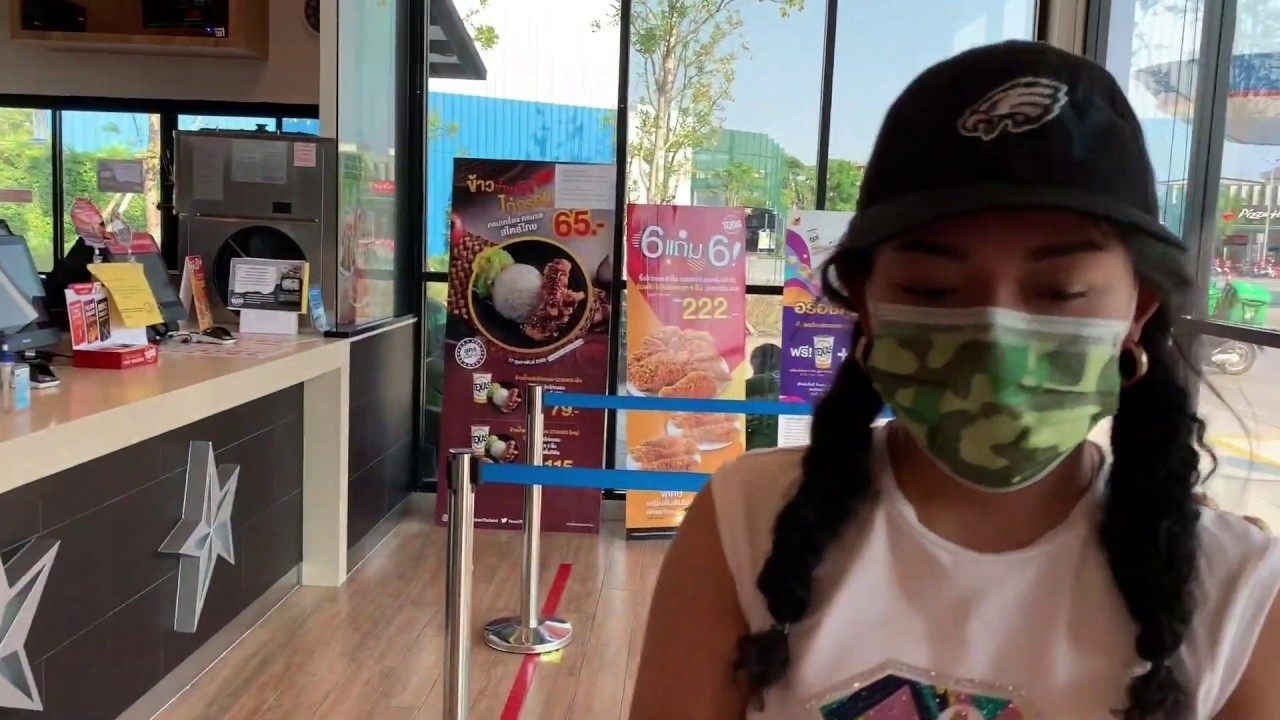face_with_mask: (846, 103, 1170, 521)
